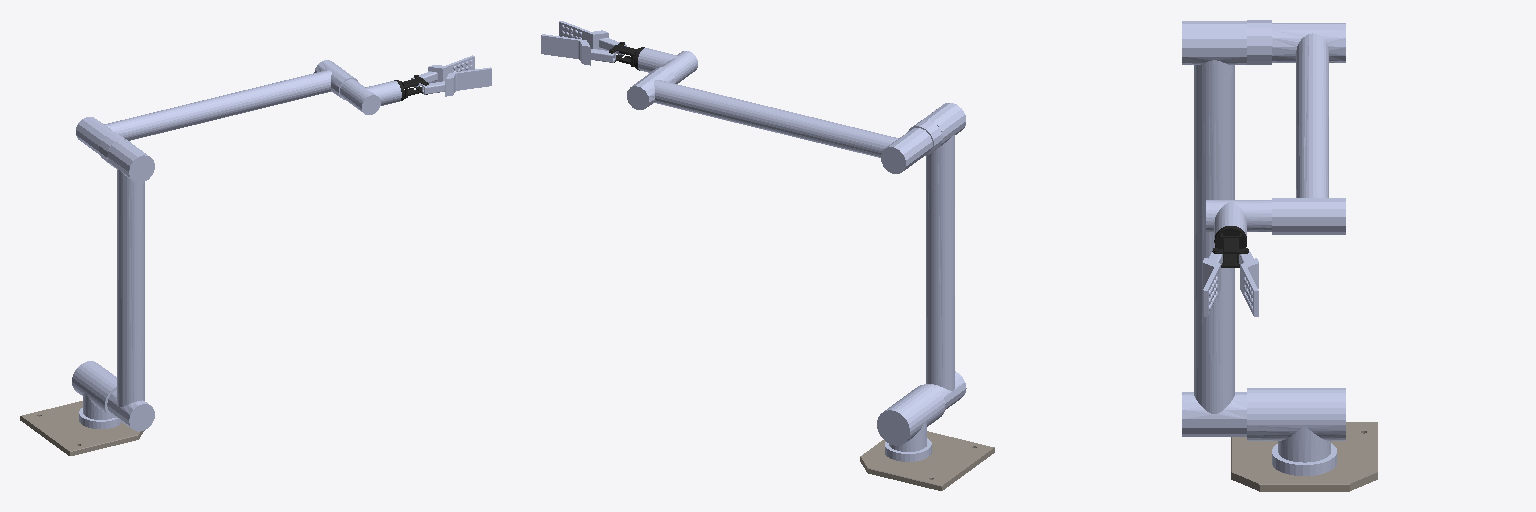
The robot description file, URDF, robot "arm_urdf":
<?xml version="1.0" encoding="utf-8"?>
<!-- This URDF was automatically created by SolidWorks to URDF Exporter! Originally created by [author] ([email redacted]) 
     Commit Version: 1.6.0-4-g7f85cfe  Build Version: 1.6.7995.38578
     For more information, please see http://wiki.ros.org/sw_urdf_exporter -->
<robot
  name="arm_urdf">
  <link
    name="base_link">
    <inertial>
      <origin
        xyz="-0.0292064837891756 1.03070798423976E-11 0.0077309438876114"
        rpy="0 0 0" />
      <mass
        value="2.5433833664806" />
      <inertia
        ixx="0.00628163463085114"
        ixy="2.26019615440288E-19"
        ixz="1.98730412004206E-05"
        iyy="0.00637258484633234"
        iyz="-1.40886315484363E-19"
        izz="0.0126050197334029" />
    </inertial>
    <visual>
      <origin
        xyz="0 0 0"
        rpy="0 0 0" />
      <geometry>
        <mesh
          filename="package://arm_urdf/meshes/base_link.STL" />
      </geometry>
      <material
        name="">
        <color
          rgba="0.650980392156863 0.619607843137255 0.588235294117647 1" />
      </material>
    </visual>
    <collision>
      <origin
        xyz="0 0 0"
        rpy="0 0 0" />
      <geometry>
        <mesh
          filename="package://arm_urdf/meshes/base_link.STL" />
      </geometry>
    </collision>
  </link>
  <link
    name="shldr_Link">
    <inertial>
      <origin
        xyz="9.29185044983016E-08 -0.00726683987372272 -0.0130827590649837"
        rpy="0 0 0" />
      <mass
        value="0.547968899396397" />
      <inertia
        ixx="0.000911442104513962"
        ixy="-3.38184624978878E-11"
        ixz="9.43198637195028E-13"
        iyy="0.000534320721116197"
        iyz="5.2094853471738E-05"
        izz="0.000696689325254328" />
    </inertial>
    <visual>
      <origin
        xyz="0 0 0"
        rpy="0 0 0" />
      <geometry>
        <mesh
          filename="package://arm_urdf/meshes/shldr_Link.STL" />
      </geometry>
      <material
        name="">
        <color
          rgba="0.792156862745098 0.819607843137255 0.933333333333333 1" />
      </material>
    </visual>
    <collision>
      <origin
        xyz="0 0 0"
        rpy="0 0 0" />
      <geometry>
        <mesh
          filename="package://arm_urdf/meshes/shldr_Link.STL" />
      </geometry>
    </collision>
  </link>
  <joint
    name="shldr_Joint"
    type="revolute">
    <origin
      xyz="0 0 0.078"
      rpy="0 0 0" />
    <parent
      link="base_link" />
    <child
      link="shldr_Link" />
    <axis
      xyz="0 0 1" />
    <limit
      lower="-3.142"
      upper="3.142"
      effort="400"
      velocity="2" />
  </joint>
  <link
    name="uarm_Link">
    <inertial>
      <origin
        xyz="-1.33818128827956E-07 0.250000006515255 1.99640421555403E-08"
        rpy="0 0 0" />
      <mass
        value="1.26674905761263" />
      <inertia
        ixx="0.0392454061401057"
        ixy="-1.15832267774499E-08"
        ixz="1.7285737985885E-09"
        iyy="0.000553103031324755"
        iyz="1.59021896893996E-09"
        izz="0.0391174058860417" />
    </inertial>
    <visual>
      <origin
        xyz="0 0 0"
        rpy="0 0 0" />
      <geometry>
        <mesh
          filename="package://arm_urdf/meshes/uarm_Link.STL" />
      </geometry>
      <material
        name="">
        <color
          rgba="0.792156862745098 0.819607843137255 0.933333333333333 1" />
      </material>
    </visual>
    <collision>
      <origin
        xyz="0 0 0"
        rpy="0 0 0" />
      <geometry>
        <mesh
          filename="package://arm_urdf/meshes/uarm_Link.STL" />
      </geometry>
    </collision>
  </link>
  <joint
    name="uarm_Joint"
    type="revolute">
    <origin
      xyz="0 -0.110000000000001 0"
      rpy="1.5707963267949 0 0" />
    <parent
      link="shldr_Link" />
    <child
      link="uarm_Link" />
    <axis
      xyz="0 0 1" />
    <limit
      lower="-1.57"
      upper="1.57"
      effort="300"
      velocity="2" />
  </joint>
  <link
    name="larm_Link">
    <inertial>
      <origin
        xyz="-7.73160084843738E-08 0.223699510365731 0.00645354848668905"
        rpy="0 0 0" />
      <mass
        value="0.965720738719143" />
      <inertia
        ixx="0.0343996252283292"
        ixy="4.33113296467829E-08"
        ixz="-1.37903031139222E-09"
        iyy="0.00066469893618089"
        iyz="0.00103626732122399"
        izz="0.0339695103321179" />
    </inertial>
    <visual>
      <origin
        xyz="0 0 0"
        rpy="0 0 0" />
      <geometry>
        <mesh
          filename="package://arm_urdf/meshes/larm_Link.STL" />
      </geometry>
      <material
        name="">
        <color
          rgba="0.792156862745098 0.819607843137255 0.933333333333333 1" />
      </material>
    </visual>
    <collision>
      <origin
        xyz="0 0 0"
        rpy="0 0 0" />
      <geometry>
        <mesh
          filename="package://arm_urdf/meshes/larm_Link.STL" />
      </geometry>
    </collision>
  </link>
  <joint
    name="larm_Joint"
    type="revolute">
    <origin
      xyz="0 0.5 -0.12"
      rpy="0 0 -1.5707963267949" />
    <parent
      link="uarm_Link" />
    <child
      link="larm_Link" />
    <axis
      xyz="0 0 -1" />
    <limit
      lower="-4.5"
      upper="1.4"
      effort="300"
      velocity="2" />
  </joint>
  <link
    name="wrist_Link">
    <inertial>
      <origin
        xyz="-8.52725409172805E-08 0.0172901666757576 -0.00601400690219769"
        rpy="0 0 0" />
      <mass
        value="0.16716236671567" />
      <inertia
        ixx="0.000165624520780463"
        ixy="4.58227920825603E-11"
        ixz="1.82563616581528E-11"
        iyy="8.12875362367742E-05"
        iyz="-1.73820838865349E-05"
        izz="0.000118622681045282" />
    </inertial>
    <visual>
      <origin
        xyz="0 0 0"
        rpy="0 0 0" />
      <geometry>
        <mesh
          filename="package://arm_urdf/meshes/wrist_Link.STL" />
      </geometry>
      <material
        name="">
        <color
          rgba="0.792156862745098 0.819607843137255 0.933333333333333 1" />
      </material>
    </visual>
    <collision>
      <origin
        xyz="0 0 0"
        rpy="0 0 0" />
      <geometry>
        <mesh
          filename="package://arm_urdf/meshes/wrist_Link.STL" />
      </geometry>
    </collision>
  </link>
  <joint
    name="wrist_Joint"
    type="revolute">
    <origin
      xyz="0 0.5 0.1"
      rpy="0 0 0" />
    <parent
      link="larm_Link" />
    <child
      link="wrist_Link" />
    <axis
      xyz="0 0 -1" />
    <limit
      lower="-3.142"
      upper="3.142"
      effort="200"
      velocity="2" />
  </joint>
  <link
    name="grpbass_Link">
    <inertial>
      <origin
        xyz="-4.01316100507032E-05 -0.000357188529745089 -0.0105954167816413"
        rpy="0 0 0" />
      <mass
        value="0.012392138493227" />
      <inertia
        ixx="1.71847797446363E-06"
        ixy="-1.27640907708762E-10"
        ixz="-6.75941559152676E-10"
        iyy="1.74594896420552E-06"
        iyz="-2.20155538419299E-08"
        izz="2.28626810002326E-06" />
    </inertial>
    <visual>
      <origin
        xyz="0 0 0"
        rpy="0 0 0" />
      <geometry>
        <mesh
          filename="package://arm_urdf/meshes/grpbass_Link.STL" />
      </geometry>
      <material
        name="">
        <color
          rgba="0.2 0.2 0.2 1" />
      </material>
    </visual>
    <collision>
      <origin
        xyz="0 0 0"
        rpy="0 0 0" />
      <geometry>
        <mesh
          filename="package://arm_urdf/meshes/grpbass_Link.STL" />
      </geometry>
    </collision>
  </link>
  <joint
    name="grpbass_Joint"
    type="revolute">
    <origin
      xyz="0 0.0769999999999944 0"
      rpy="1.5707963267949 1.5707963267949 0" />
    <parent
      link="wrist_Link" />
    <child
      link="grpbass_Link" />
    <axis
      xyz="0 0 1" />
    <limit
      lower="-3.142"
      upper="3.142"
      effort="200"
      velocity="2" />
  </joint>
  <link
    name="fngrR_Link">
    <inertial>
      <origin
        xyz="0.00708909138079242 0.0659054695280851 -0.000206436969597545"
        rpy="0 0 0" />
      <mass
        value="0.032818259969324" />
      <inertia
        ixx="4.01008764613634E-05"
        ixy="-4.96505976274912E-06"
        ixz="9.5678846667765E-09"
        iyy="4.36450856319505E-06"
        iyz="6.85285052330905E-08"
        izz="3.86816595368864E-05" />
    </inertial>
    <visual>
      <origin
        xyz="0 0 0"
        rpy="0 0 0" />
      <geometry>
        <mesh
          filename="package://arm_urdf/meshes/fngrR_Link.STL" />
      </geometry>
      <material
        name="">
        <color
          rgba="0.792156862745098 0.819607843137255 0.933333333333333 1" />
      </material>
    </visual>
    <collision>
      <origin
        xyz="0 0 0"
        rpy="0 0 0" />
      <geometry>
        <mesh
          filename="package://arm_urdf/meshes/fngrR_Link.STL" />
      </geometry>
    </collision>
  </link>
  <joint
    name="fngrR_Joint"
    type="revolute">
    <origin
      xyz="-0.0179999999866297 0.000875000000095771 -0.0449999999877976"
      rpy="-1.5707963267949 0.186273469161353 0" />
    <parent
      link="grpbass_Link" />
    <child
      link="fngrR_Link" />
    <axis
      xyz="0 0 -1" />
    <limit
      lower="-0.062"
      upper="0"
      effort="200"
      velocity="2" />
    <mimic
      joint="fngrL_Joint"
      multiplier="-1"
      offset="0" />
  </joint>
  <link
    name="fngrL_Link">
    <inertial>
      <origin
        xyz="-0.00708909134419022 0.0659054694872668 0.000206436980062508"
        rpy="0 0 0" />
      <mass
        value="0.0328182600182939" />
      <inertia
        ixx="4.01008764865379E-05"
        ixy="4.96505977098165E-06"
        ixz="9.56788167092588E-09"
        iyy="4.36450856603979E-06"
        iyz="-6.85284983057251E-08"
        izz="3.86816595609957E-05" />
    </inertial>
    <visual>
      <origin
        xyz="0 0 0"
        rpy="0 0 0" />
      <geometry>
        <mesh
          filename="package://arm_urdf/meshes/fngrL_Link.STL" />
      </geometry>
      <material
        name="">
        <color
          rgba="0.792156862745098 0.819607843137255 0.933333333333333 1" />
      </material>
    </visual>
    <collision>
      <origin
        xyz="0 0 0"
        rpy="0 0 0" />
      <geometry>
        <mesh
          filename="package://arm_urdf/meshes/fngrL_Link.STL" />
      </geometry>
    </collision>
  </link>
  <joint
    name="fngrL_Joint"
    type="revolute">
    <origin
      xyz="0.0179999999873413 0.000874999999837534 -0.0449999999992026"
      rpy="-1.5707963267949 -0.186273469161356 0" />
    <parent
      link="grpbass_Link" />
    <child
      link="fngrL_Link" />
    <axis
      xyz="0 0 -1" />
    <limit
      lower="0"
      upper="0.062"
      effort="200"
      velocity="2" />
  </joint>
</robot>

--- What the picture shows (computed from the rendered views, not written in the file) ---
3 views of the same robot in one strip: view 1: azimuth 30°, elevation 25°; view 2: azimuth 150°, elevation 25°; view 3: azimuth 270°, elevation 25° (orthographic).
Robot: arm_urdf — 8 links, 7 joints (7 revolute); root link base_link; default pose: all joints at 0.
Visible links, largest first — view 1: uarm_Link, larm_Link, base_link, shldr_Link, wrist_Link, fngrR_Link, fngrL_Link; view 2: larm_Link, uarm_Link, base_link, shldr_Link, fngrL_Link, wrist_Link, fngrR_Link; view 3: uarm_Link, larm_Link, shldr_Link, base_link, wrist_Link, grpbass_Link, fngrL_Link, fngrR_Link.
Boxes of the visible links, x1,y1,x2,y2 form: uarm_Link: [107, 139, 154, 431]; larm_Link: [76, 60, 357, 164]; base_link: [20, 401, 144, 455]; shldr_Link: [72, 361, 121, 428]; wrist_Link: [340, 79, 401, 114]; fngrR_Link: [422, 67, 491, 96]; fngrL_Link: [411, 55, 474, 87]; larm_Link: [627, 67, 942, 173]; uarm_Link: [921, 103, 966, 409]; base_link: [860, 431, 994, 490]; shldr_Link: [877, 384, 944, 461]; fngrL_Link: [541, 34, 615, 65]; wrist_Link: [638, 48, 697, 83]; fngrR_Link: [559, 21, 626, 54]; uarm_Link: [1182, 21, 1246, 436]; larm_Link: [1247, 20, 1345, 234]; shldr_Link: [1247, 388, 1345, 475]; base_link: [1231, 422, 1377, 491]; wrist_Link: [1206, 200, 1271, 239]; grpbass_Link: [1212, 226, 1248, 267]; fngrL_Link: [1239, 251, 1258, 316]; fngrR_Link: [1203, 251, 1222, 316].
Size in the robot's own frame: 0.8697 by 0.24 by 0.6055 metres.
Meshes: 8 distinct files referenced, 8 mesh visuals loaded (8 binary STL).